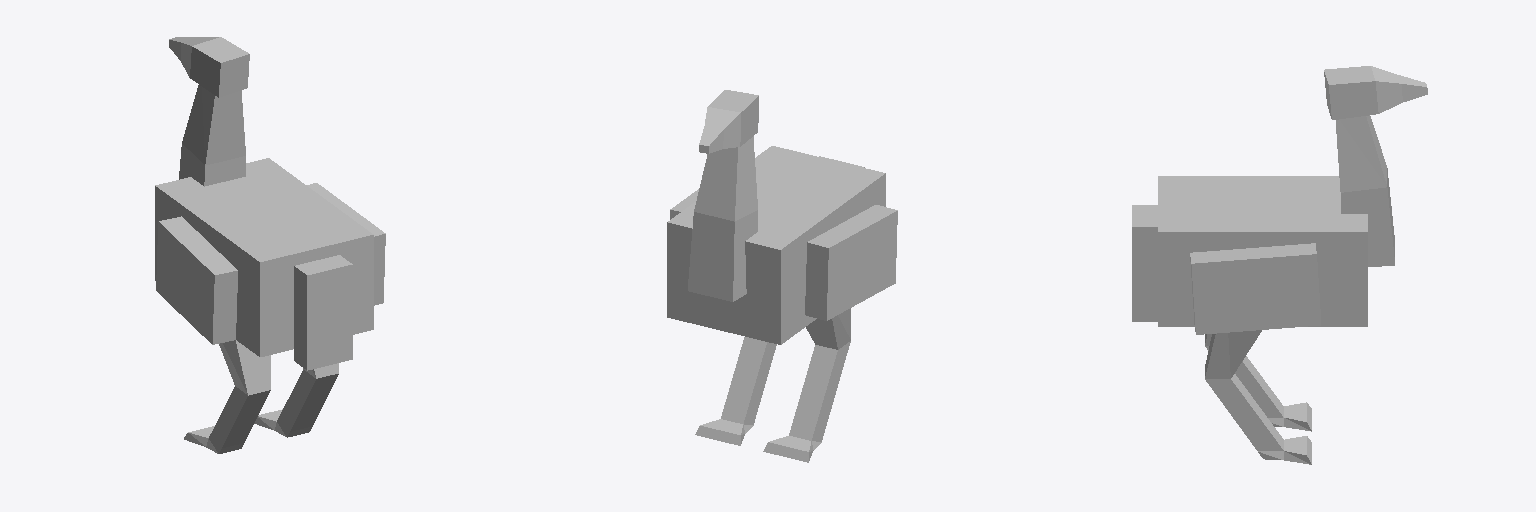
File: Ostrich_000021.obj
3 renders of one model, left to right at view 1: azimuth 30°, elevation 25°; view 2: azimuth 150°, elevation 25°; view 3: azimuth 270°, elevation 25°, orthographic.
Visible parts, largest first — view 1: Cube_Cube.001; view 2: Cube_Cube.001; view 3: Cube_Cube.001.
Boxes of the visible parts, x1=… form: Cube_Cube.001: x1=155, y1=37, x2=385, y2=453; Cube_Cube.001: x1=667, y1=90, x2=897, y2=462; Cube_Cube.001: x1=1132, y1=66, x2=1427, y2=464.
Bounding box in the file's own units: 0.7533 × 1.52 × 1.13.